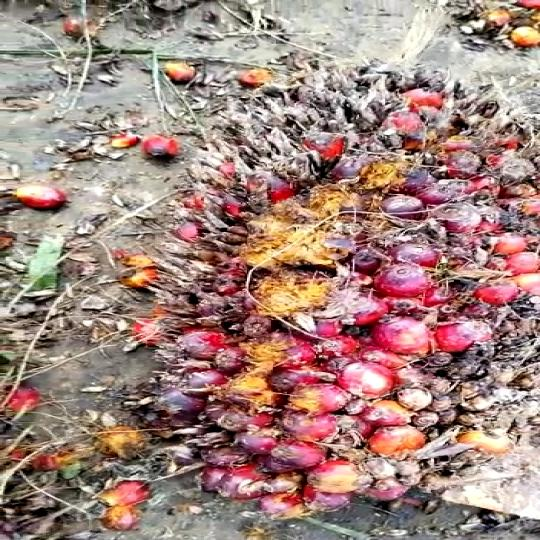masak: (124, 51, 540, 509)
